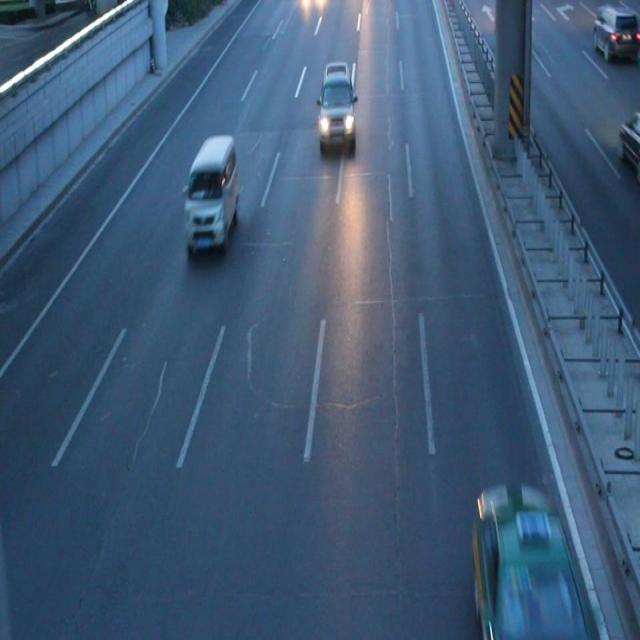car: (471, 487, 592, 640)
truck: (182, 135, 238, 254), (317, 63, 356, 148)
